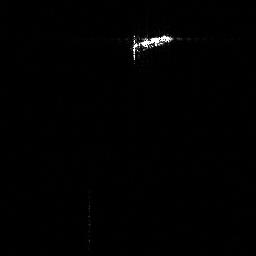ship: (133, 34, 174, 51)
